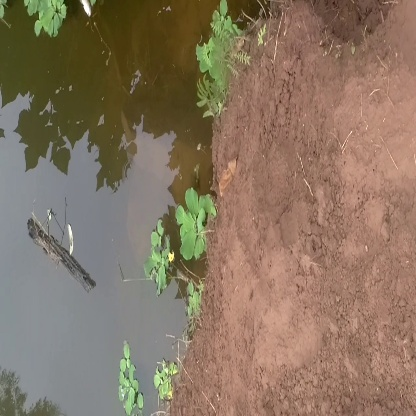branch: (29, 211, 107, 300)
